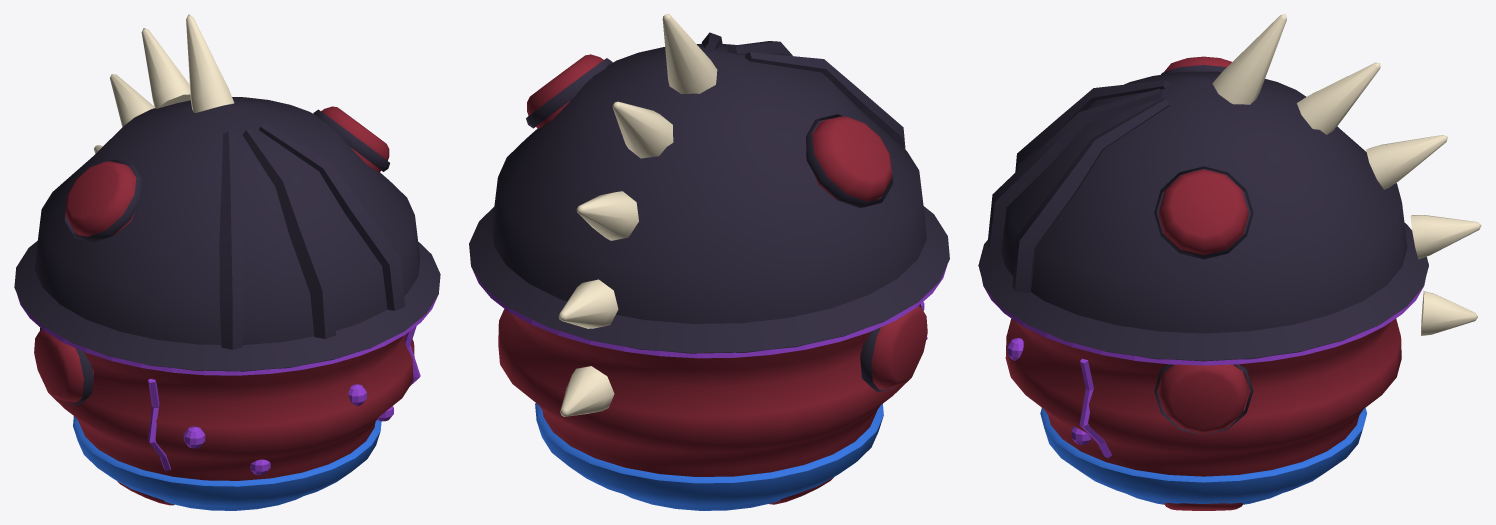
Rendered from Kit_Core_LeagueFlesh.glb.
3 views of the same model, side by side, from view 1: azimuth 30°, elevation 25°; view 2: azimuth 150°, elevation 25°; view 3: azimuth 270°, elevation 25° (orthographic). The views are drawn at different scales.
Visible parts, largest first — view 1: Kit_Core_LeagueFlesh; view 2: Kit_Core_LeagueFlesh; view 3: Kit_Core_LeagueFlesh.
Boxes of the visible parts, x1,y1,x2,y2 form: Kit_Core_LeagueFlesh: (14, 14, 440, 510); Kit_Core_LeagueFlesh: (469, 14, 949, 510); Kit_Core_LeagueFlesh: (978, 14, 1481, 510).
Bounding box in the file's own units: 0.4528 × 0.5287 × 0.5055.
